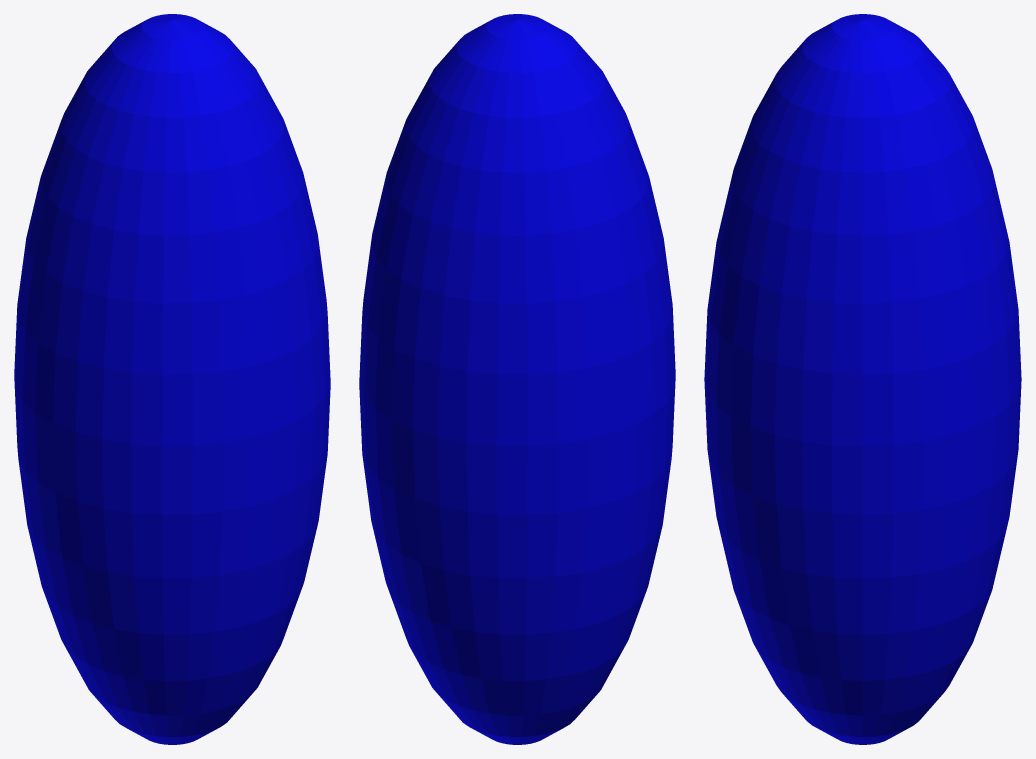
The model's file is PlayerBody.fbx.
3 renders of one model, left to right at view 1: azimuth 30°, elevation 25°; view 2: azimuth 150°, elevation 25°; view 3: azimuth 270°, elevation 25°, orthographic.
Visible parts, largest first — view 1: Sphere; view 2: Sphere; view 3: Sphere.
Part boxes in pixels (bbox=[...]): Sphere: bbox=[14, 14, 330, 744]; Sphere: bbox=[359, 14, 675, 744]; Sphere: bbox=[704, 14, 1021, 744].
Bounding box in the file's own units: 400 × 1000 × 400.
